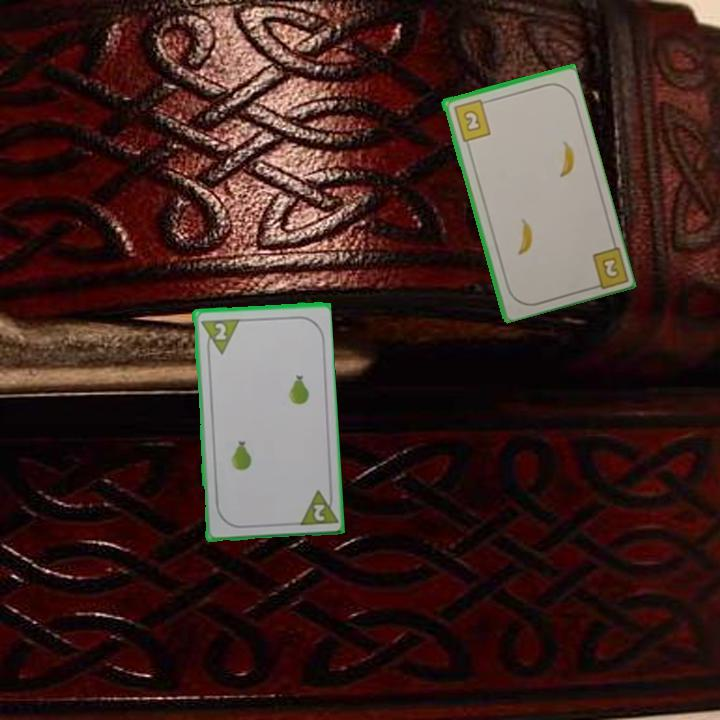2b: (585, 242, 629, 292), (450, 96, 493, 144)
2p: (294, 485, 339, 528), (197, 315, 241, 357)
